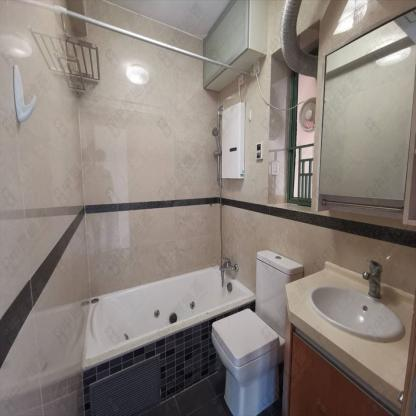Bathtub: (80, 262, 254, 415)
Exhaust Fan: (300, 98, 316, 130)
Faucet: (363, 255, 384, 303)
Toilet: (210, 248, 305, 415)
Toilet Sink: (312, 284, 406, 344)
Water Heater: (220, 99, 246, 180)
